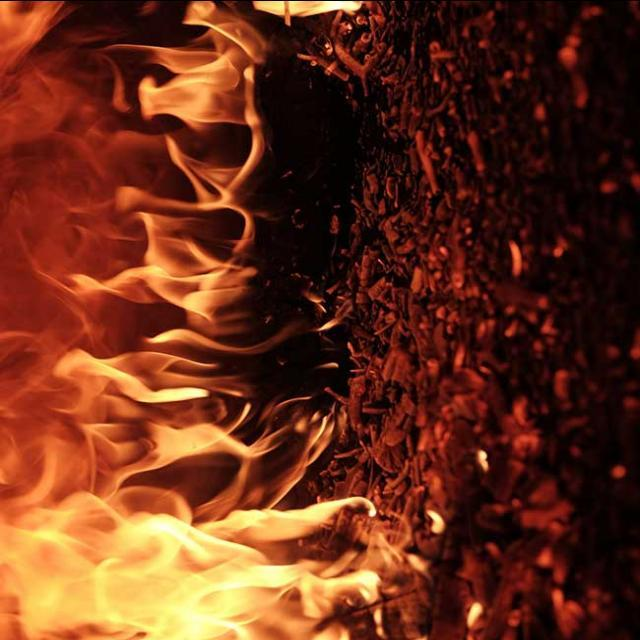Fire: (1, 0, 391, 639)
